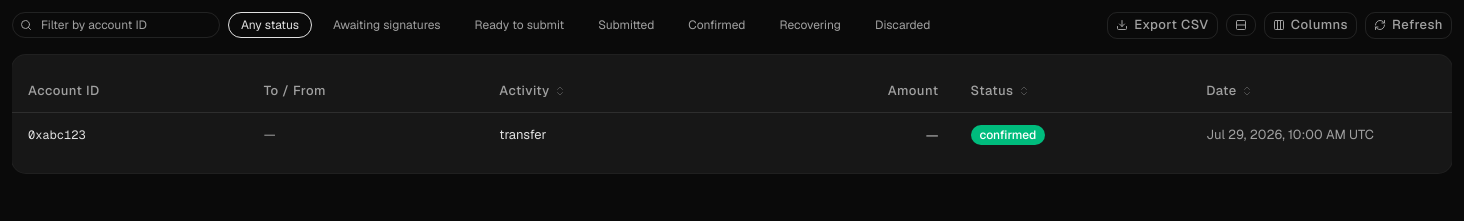
activity table controls › drops a column from the header, the colgroup and the body together
Expected: the number of column headings is 6, [12, 71, 248, 112]; [248, 71, 483, 112]; [483, 71, 745, 112]; [745, 71, 955, 112]; [954, 71, 1190, 112]; [1190, 71, 1452, 112]
Step 1. Click the button "Columns" → (1310, 25), box [1264, 12, 1357, 39]
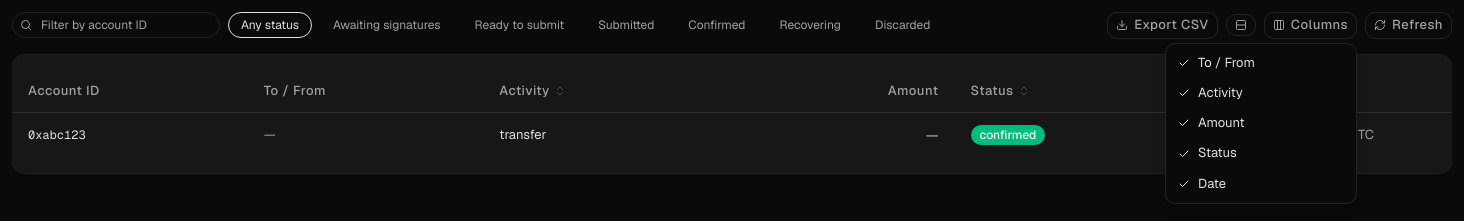
Step 2. Click the menu item "Amount" → (1261, 123), box [1170, 108, 1352, 138]
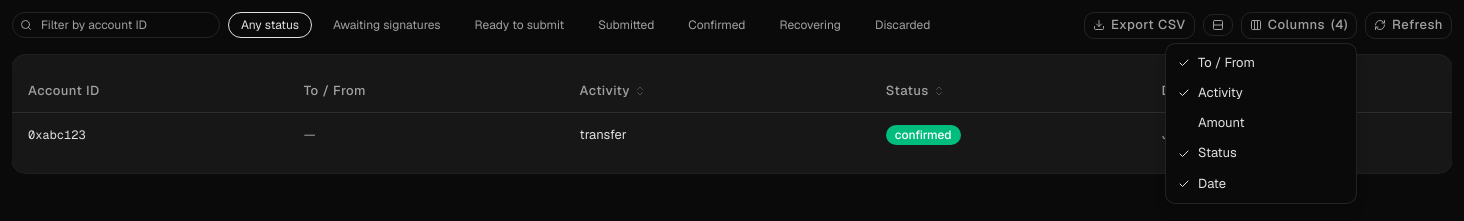
Expected: the number of column headings is 5, [12, 71, 288, 112]; [288, 71, 563, 112]; [564, 71, 870, 112]; [870, 71, 1146, 112]; [1146, 71, 1452, 112]
Expected: the number of cells is 5, [12, 112, 288, 157]; [288, 112, 563, 157]; [564, 112, 870, 157]; [870, 112, 1146, 157]; [1146, 112, 1452, 157]
